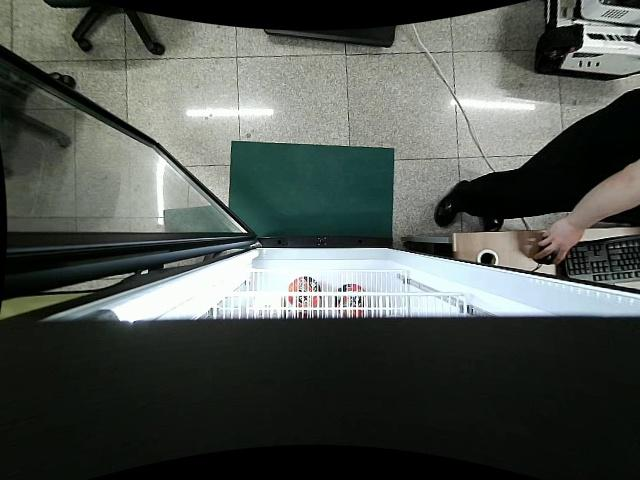00_hand: (534, 215, 583, 269)
